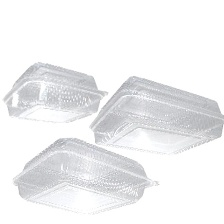plastic_box: (5, 132, 165, 221), (83, 70, 224, 161), (0, 57, 113, 131)
